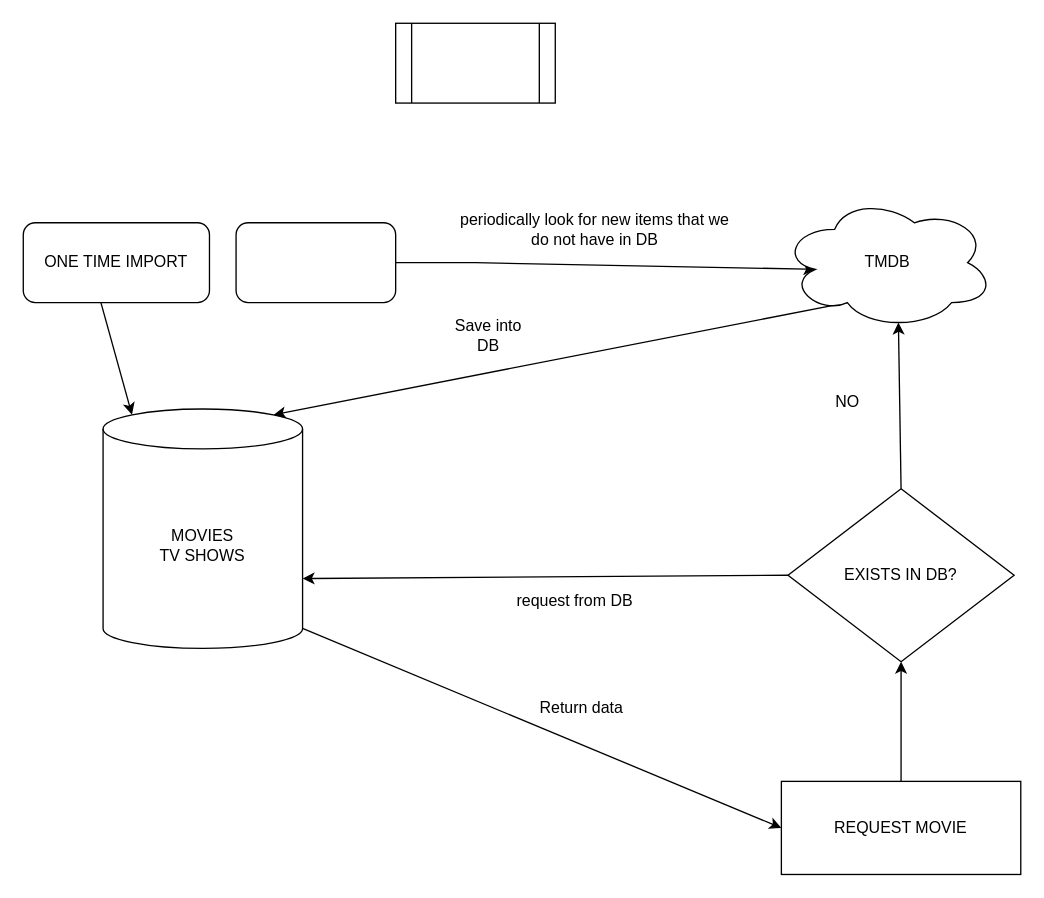
This 1044x898 diagram has some shape labels left out. Here are the shapes that lost their labels. From the top down, the box of each, then its label:
(394, 22, 555, 103): GET ITEM PROCESS
(235, 221, 396, 303): CRON
